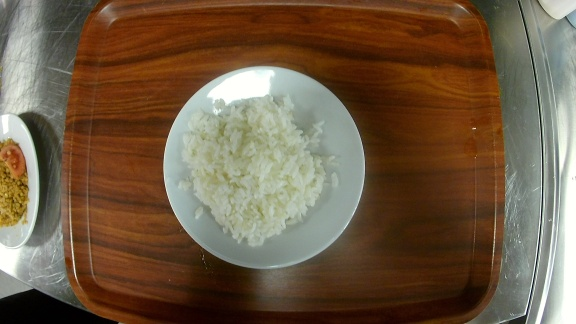pilav: (161, 65, 366, 270)
